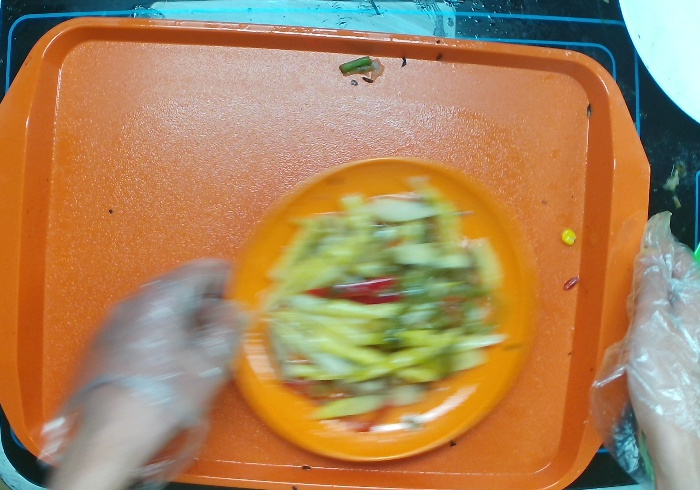HZYJPL-Ju_Huang_Yuan_Pan: (218, 147, 538, 476)
